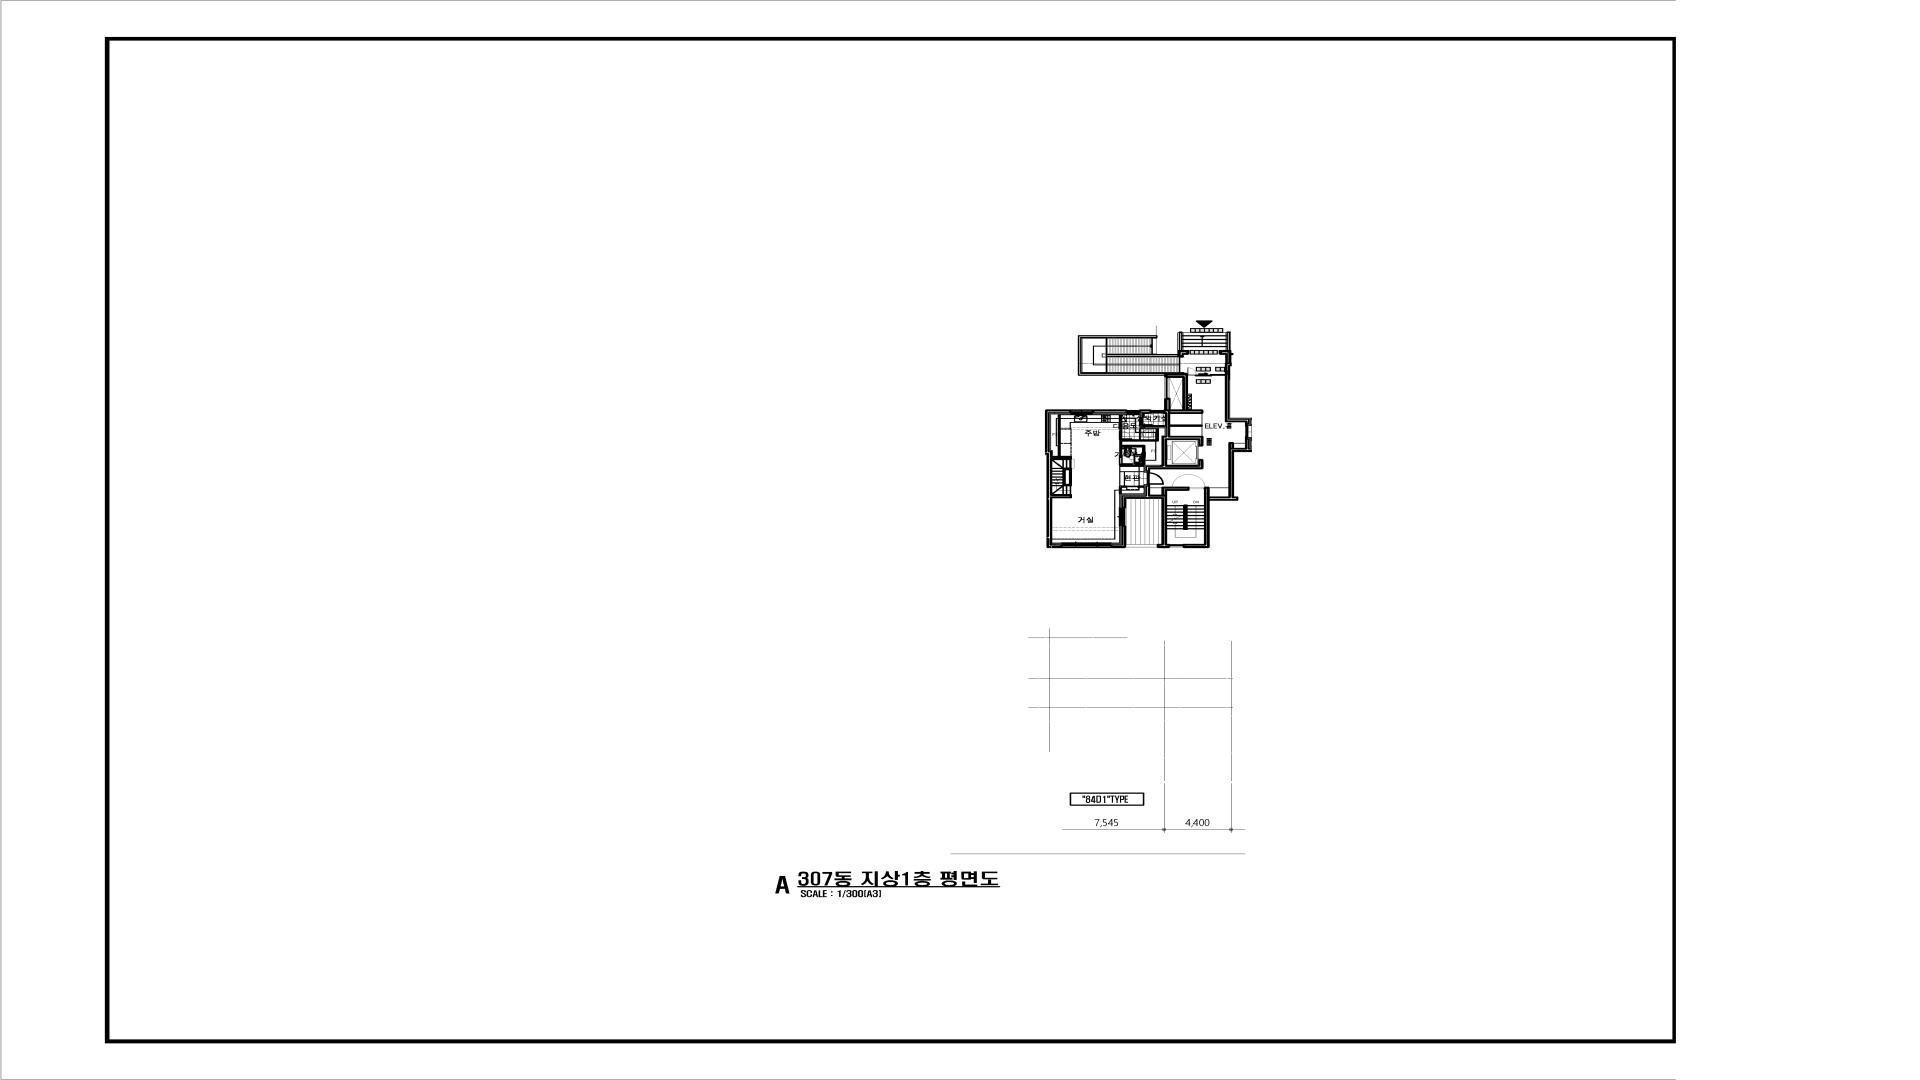door: (1172, 475, 1205, 487), (1143, 472, 1164, 485), (1118, 455, 1133, 464), (1118, 431, 1133, 439), (1139, 418, 1153, 425), (1196, 375, 1225, 377), (1188, 368, 1196, 376)
wall: (1077, 335, 1204, 472), (1183, 436, 1251, 549), (1120, 485, 1189, 549), (1044, 409, 1072, 549), (1218, 331, 1251, 426), (1105, 331, 1189, 357), (1120, 429, 1159, 467), (1054, 414, 1072, 460), (1112, 525, 1126, 549), (1093, 409, 1126, 415), (1139, 409, 1151, 418), (1171, 425, 1203, 427), (1118, 485, 1127, 493), (1118, 415, 1122, 431), (1138, 485, 1143, 488)
window: (1062, 542, 1112, 549), (1071, 409, 1092, 415), (1118, 508, 1126, 525), (1164, 378, 1170, 398), (1126, 545, 1156, 547), (1245, 426, 1251, 436), (1127, 410, 1139, 415), (1151, 410, 1164, 414), (1171, 545, 1183, 547)
